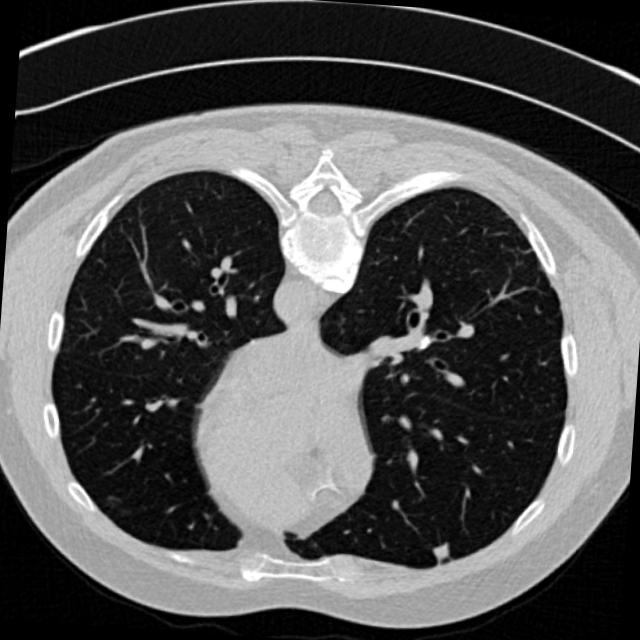nodule: (424, 534, 459, 568)
